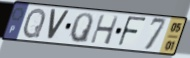7: (144, 16, 167, 52)
F: (116, 15, 148, 49)
H: (88, 14, 120, 46)
Q: (68, 12, 94, 45), (22, 7, 47, 40)
V: (46, 8, 71, 42)
